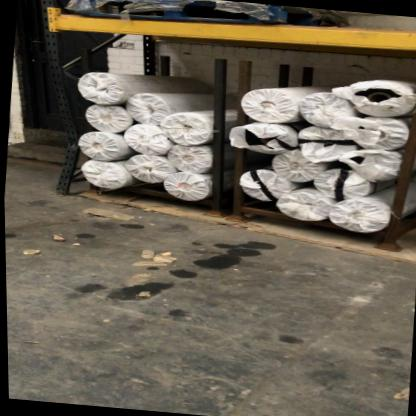vertical_damage: (48, 101, 104, 174)
